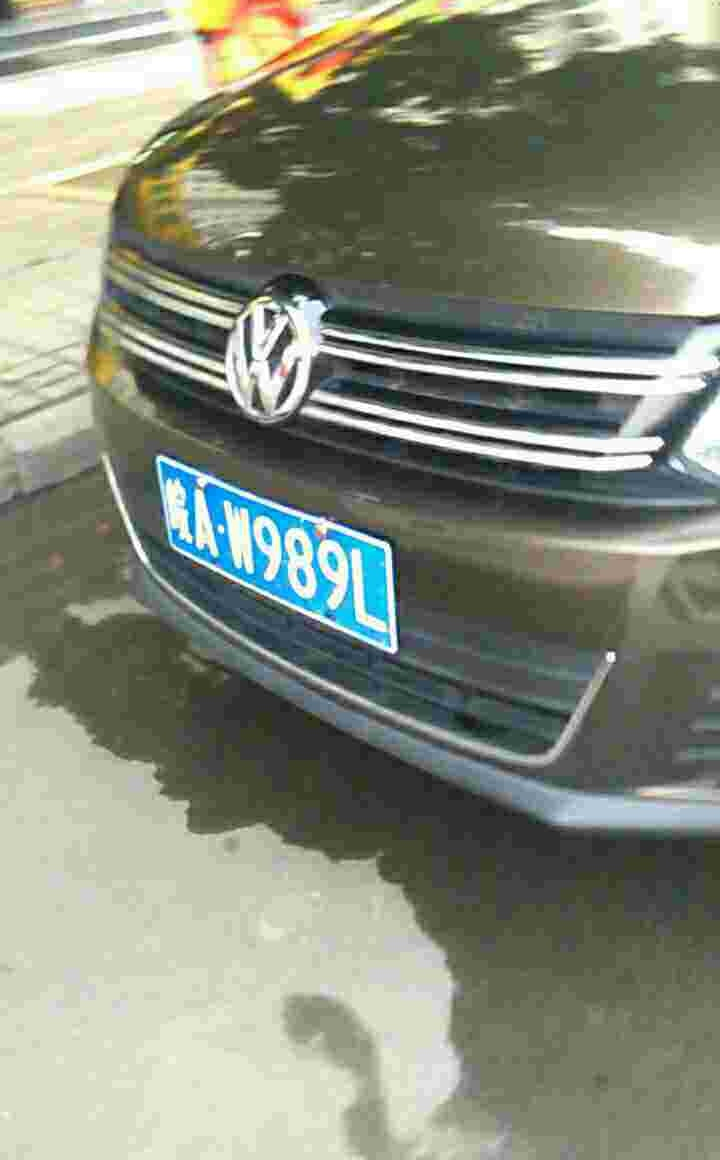license_plate: (150, 474, 400, 639)
